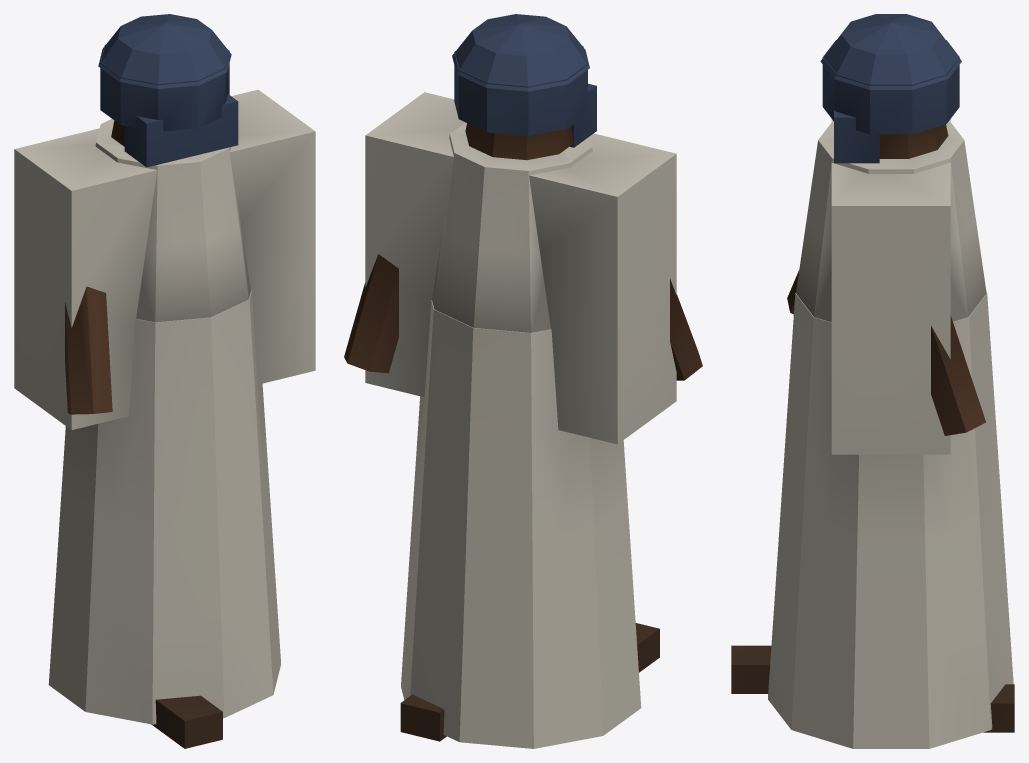
Rendered from walker.glb.
3 views of the same model, side by side, from view 1: azimuth 30°, elevation 25°; view 2: azimuth 150°, elevation 25°; view 3: azimuth 270°, elevation 25° (orthographic). The views are drawn at different scales.
Parts seen in each view (by area): view 1: base; view 2: base; view 3: base.
Boxes of the visible parts, x1,y1,x2,y2 form: base: (14, 14, 315, 748); base: (344, 14, 702, 748); base: (731, 14, 1014, 748).
Bounding box in the file's own units: 0.7077 × 1.64 × 0.62.
